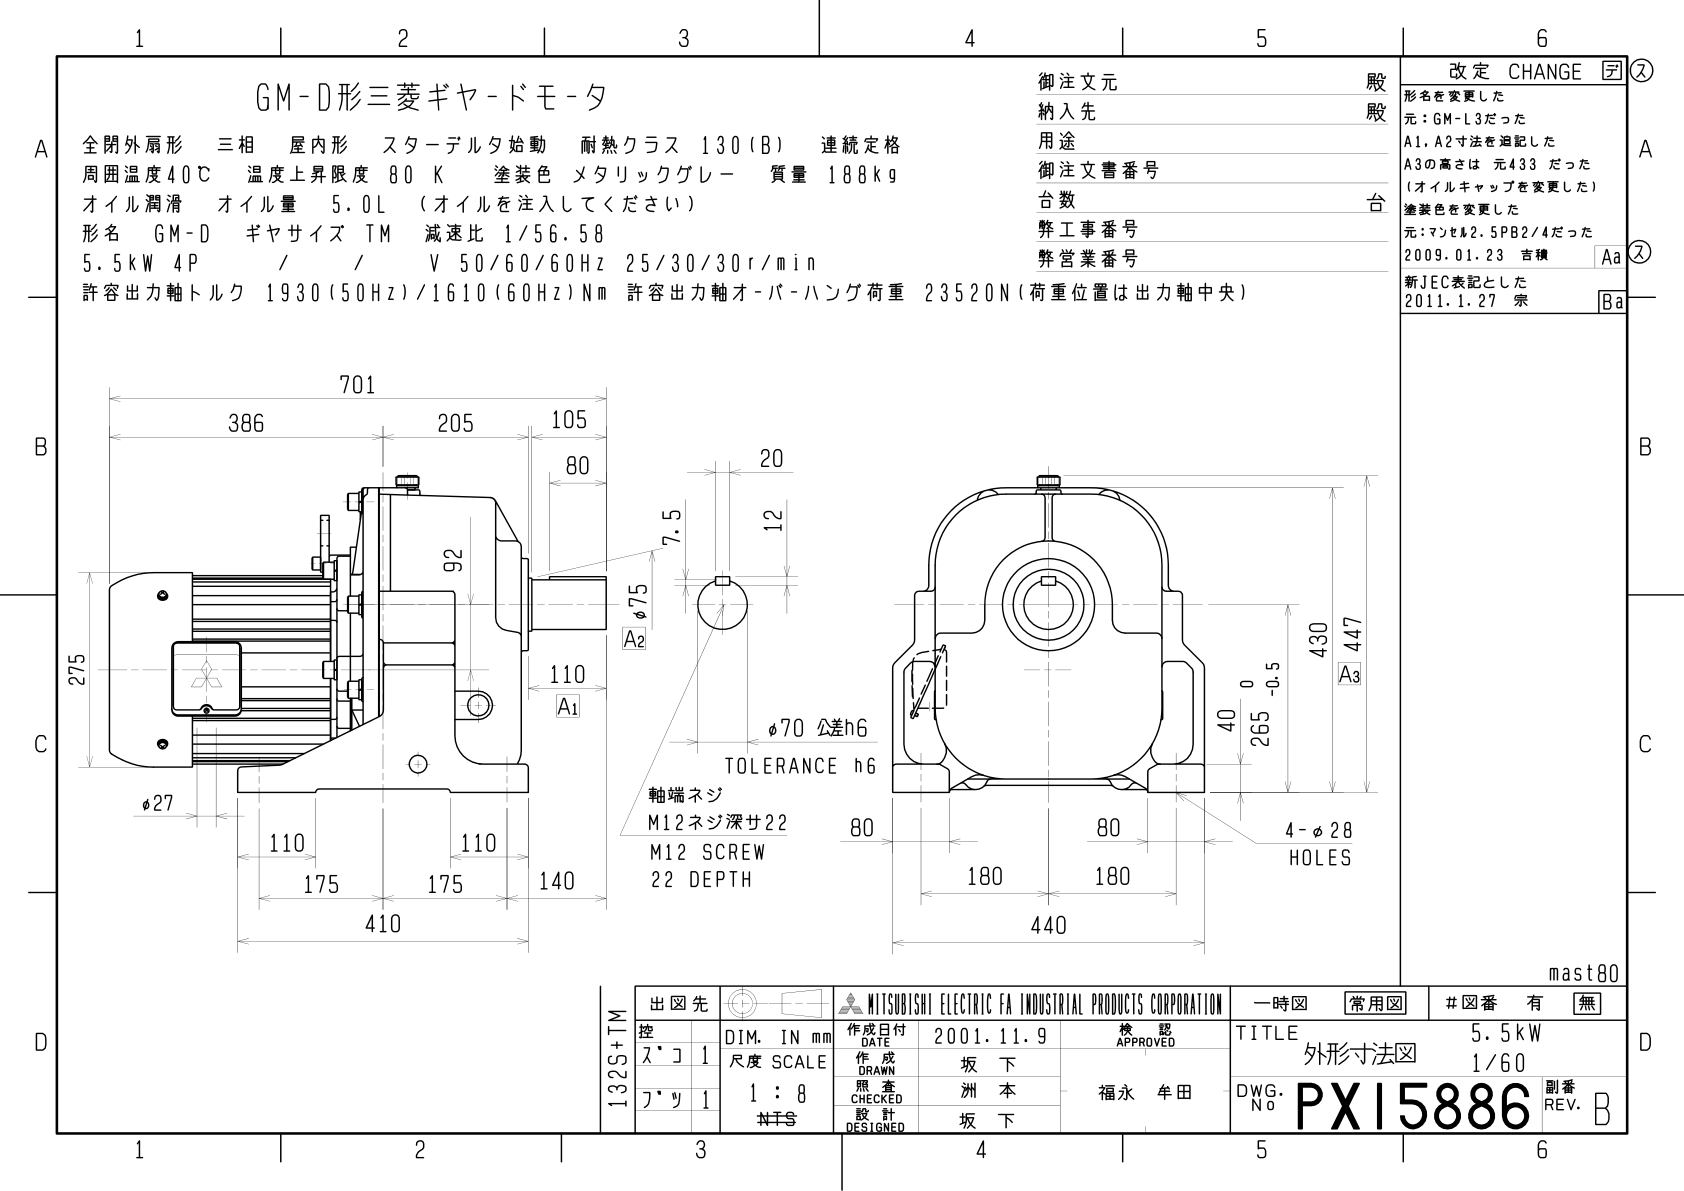GM_D_屋内＿三相_脚: (61, 318, 1403, 969)
